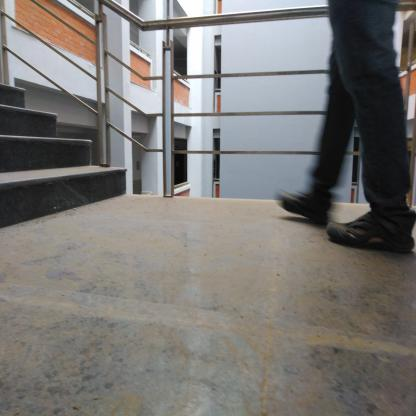stairs: (1, 112, 60, 238)
